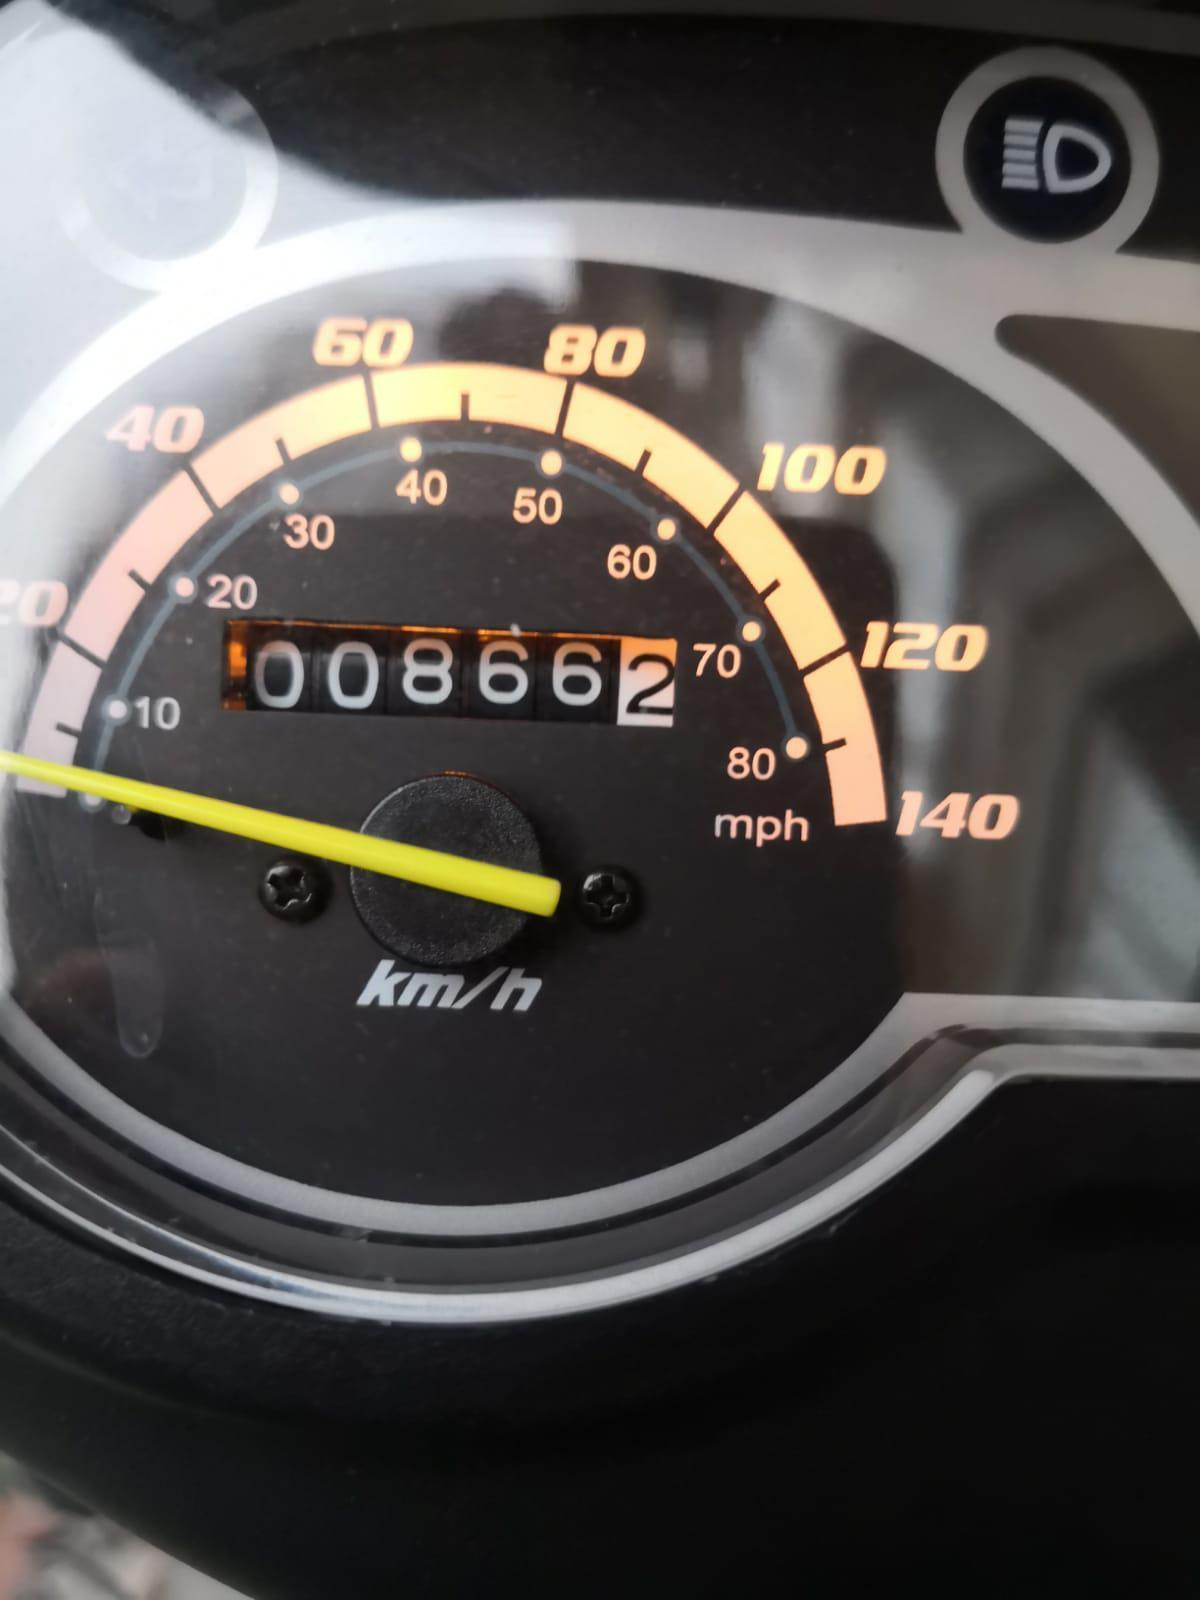0: (318, 641, 384, 716), (250, 636, 308, 711)
2: (616, 643, 681, 733)
6: (475, 635, 533, 708), (550, 637, 604, 709)
8: (395, 634, 460, 714)
odometer: (216, 610, 698, 740)
